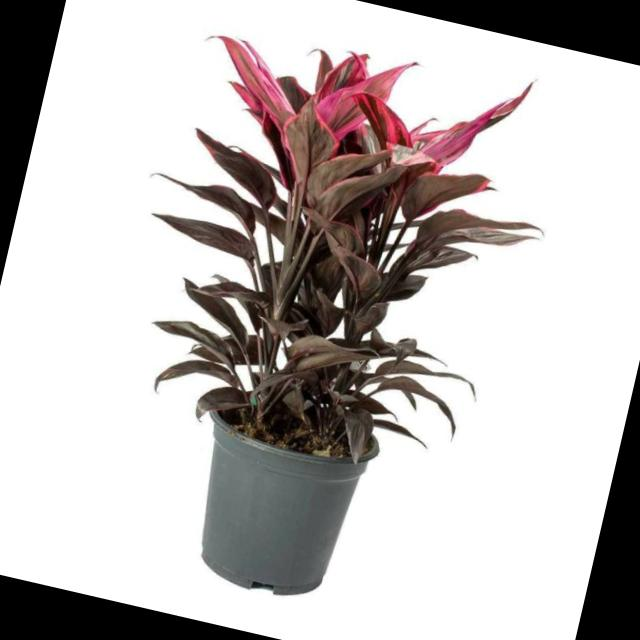Ti: (86, 0, 583, 496)
